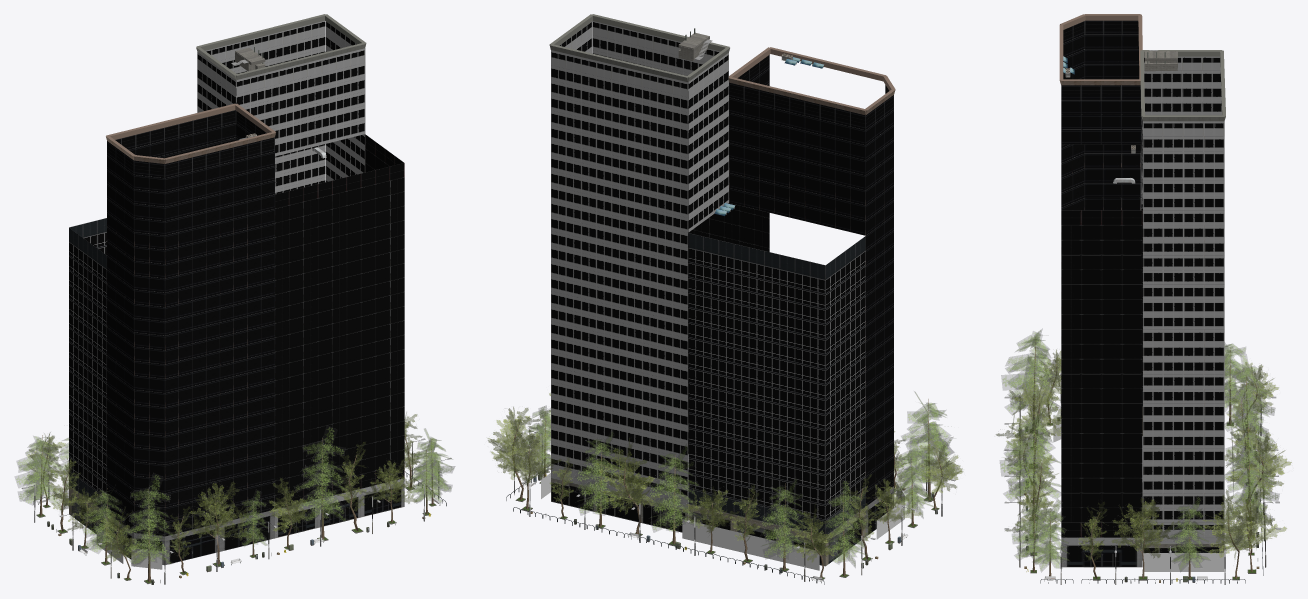
File: nycity_00.gltf
3 renders of one model, left to right at view 1: azimuth 30°, elevation 25°; view 2: azimuth 150°, elevation 25°; view 3: azimuth 270°, elevation 25°, orthographic. The views are drawn at different scales.
Visible parts, largest first — view 1: nycity_00; view 2: nycity_00; view 3: nycity_00.
Boxes of the visible parts, left/top/right/bottom form: nycity_00: left=14, top=14, right=455, bottom=584; nycity_00: left=487, top=14, right=963, bottom=584; nycity_00: left=996, top=14, right=1291, bottom=584.
Bounding box in the file's own units: 80.42 × 93.77 × 54.84.
24 materials, 19 textured.
